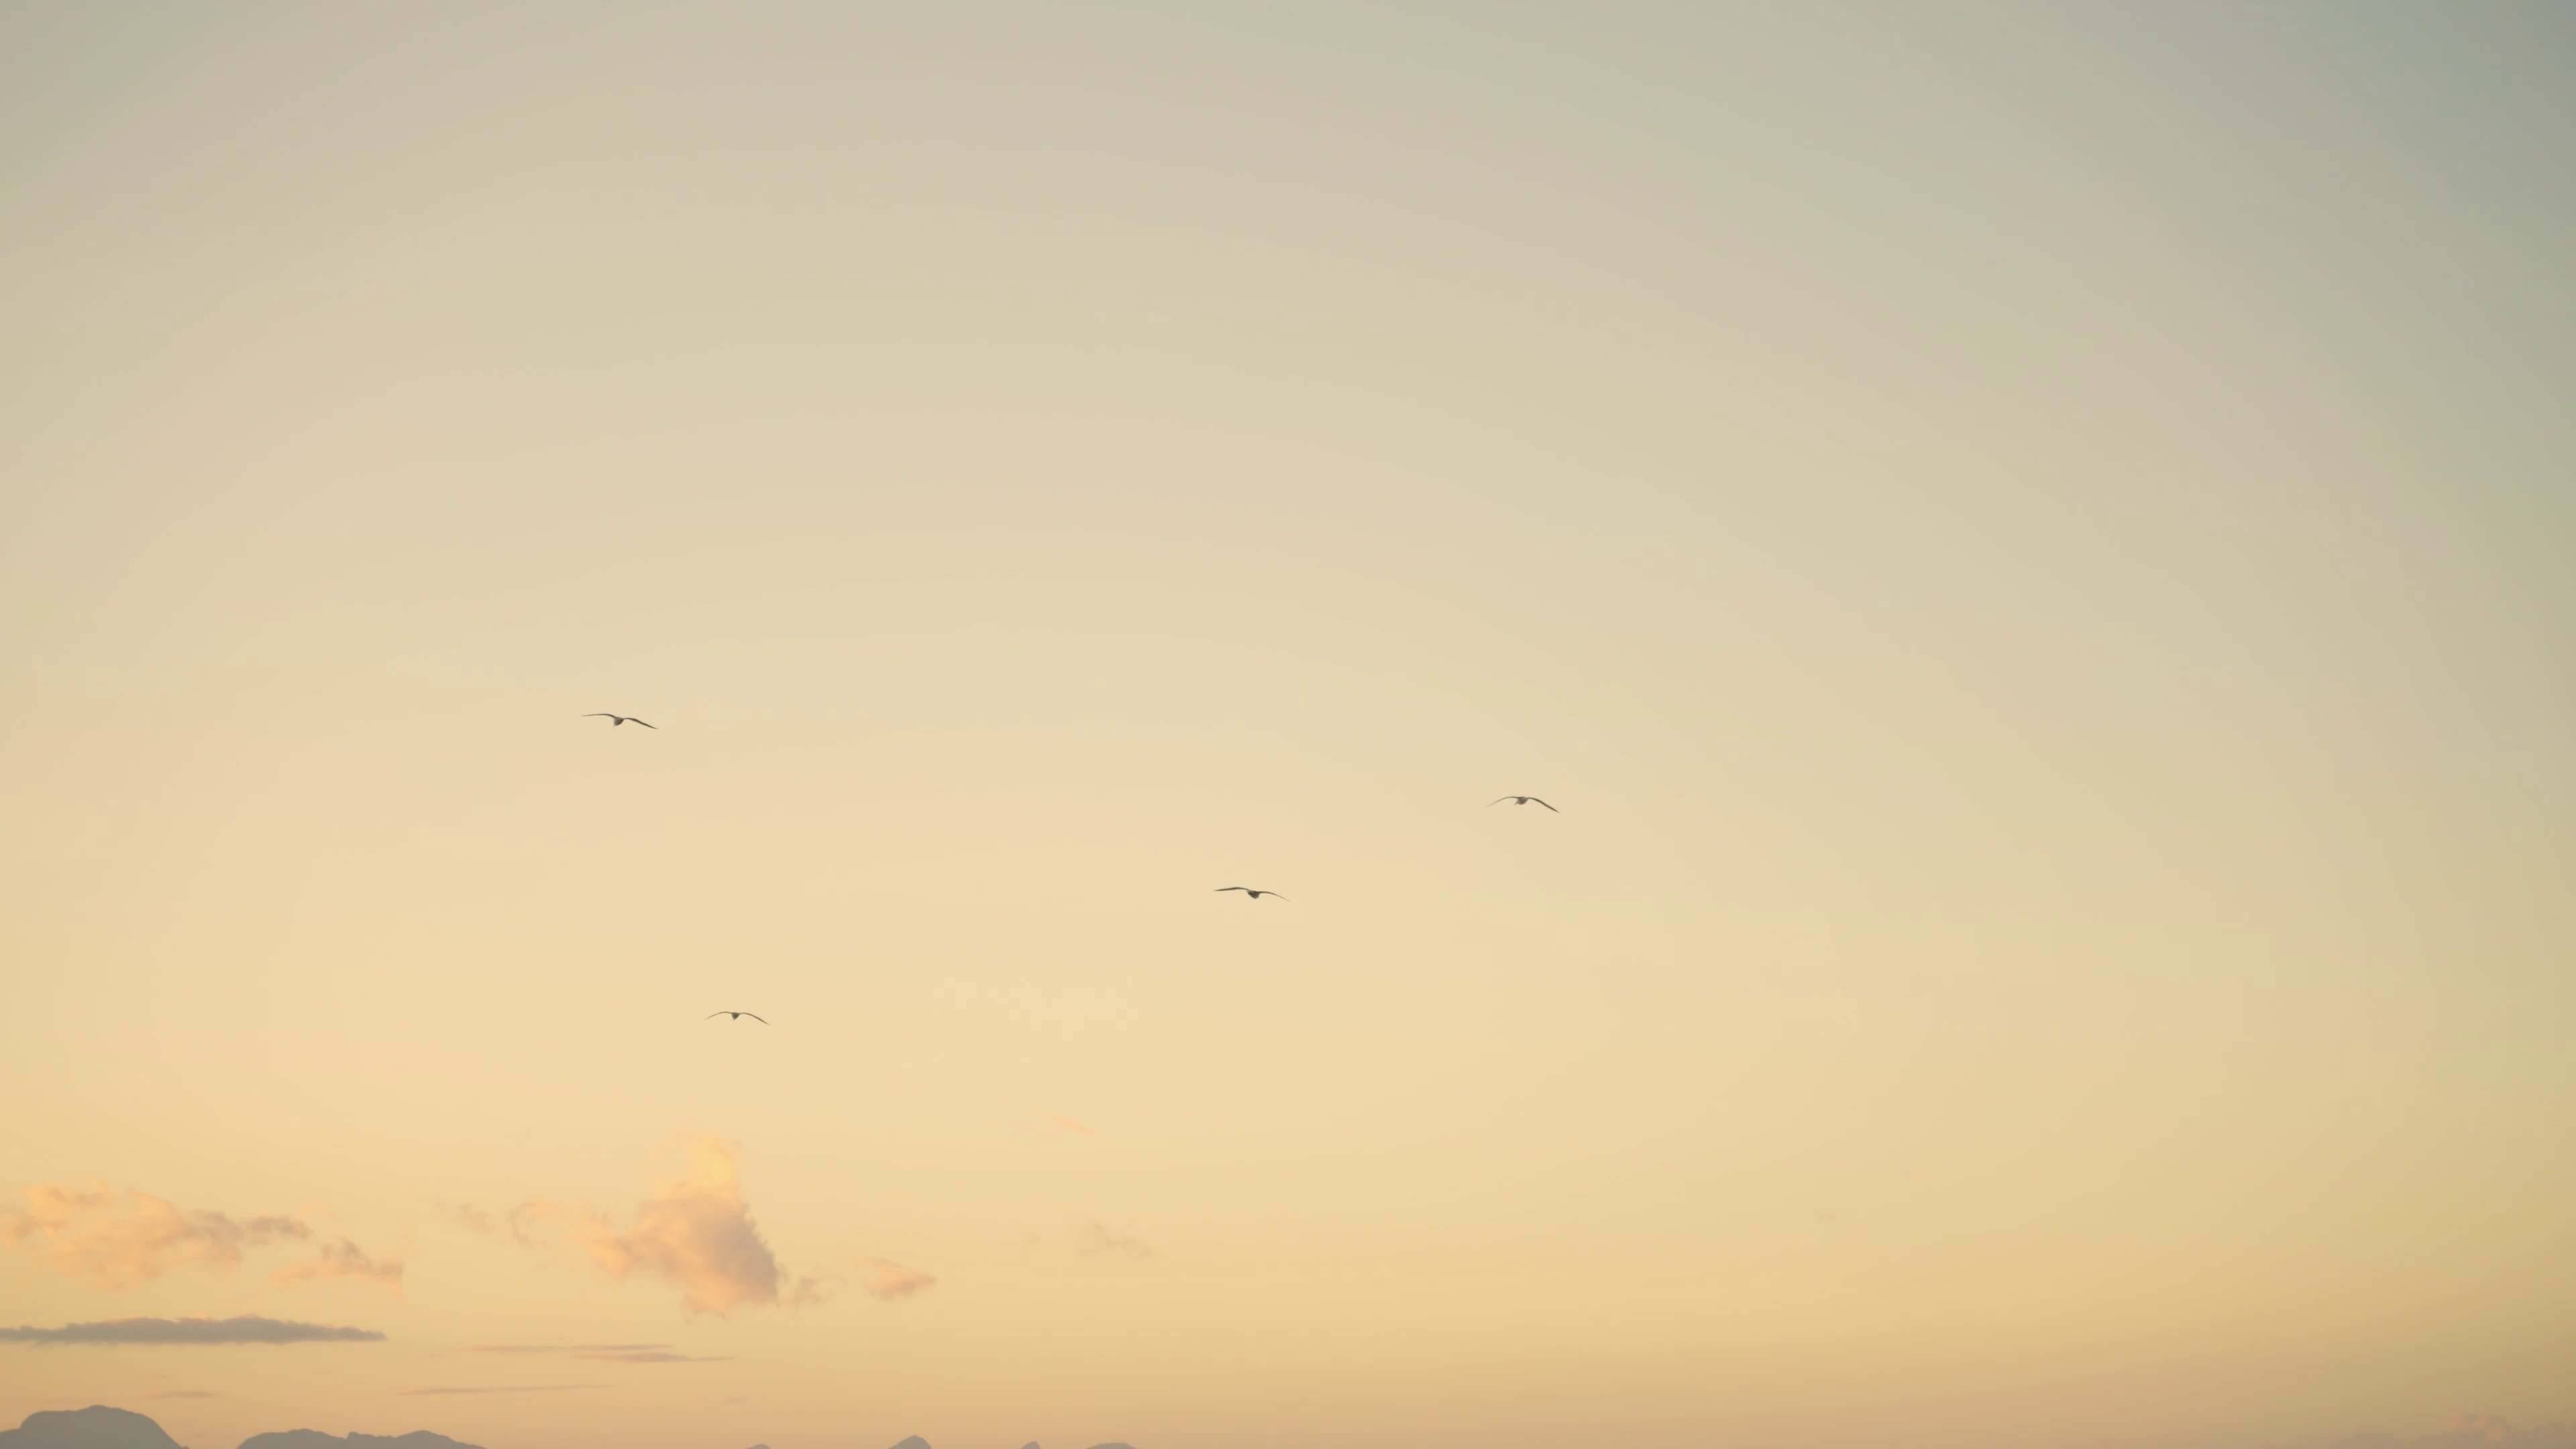bird: (580, 713, 658, 732), (1490, 794, 1559, 814), (1215, 886, 1292, 902), (702, 1010, 770, 1024)
